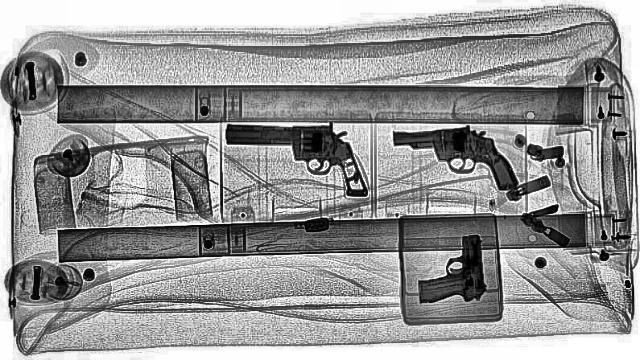Gun: (385, 117, 525, 201), (219, 121, 369, 196), (412, 234, 484, 304)
